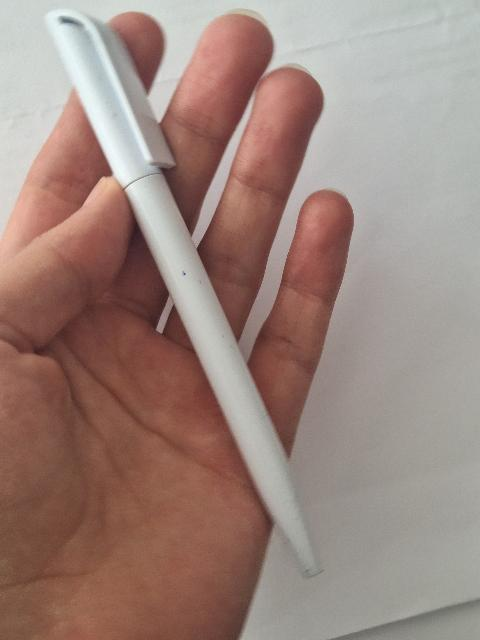writing_tool: (41, 5, 334, 585)
